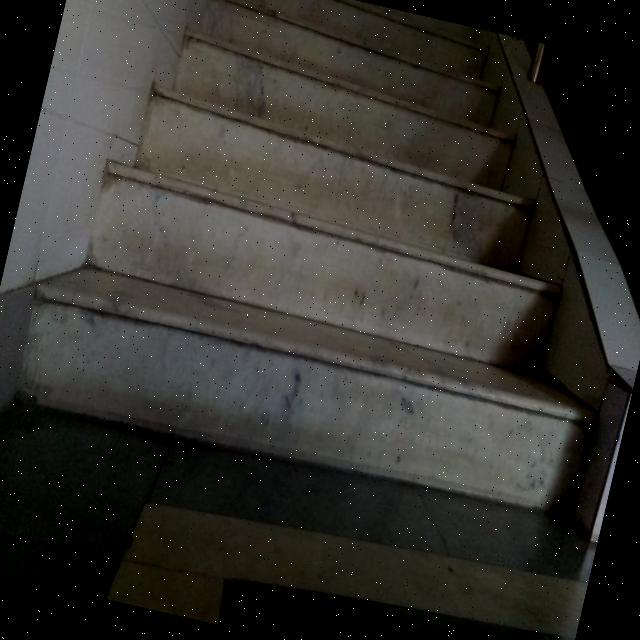stairs: (7, 0, 640, 530)
